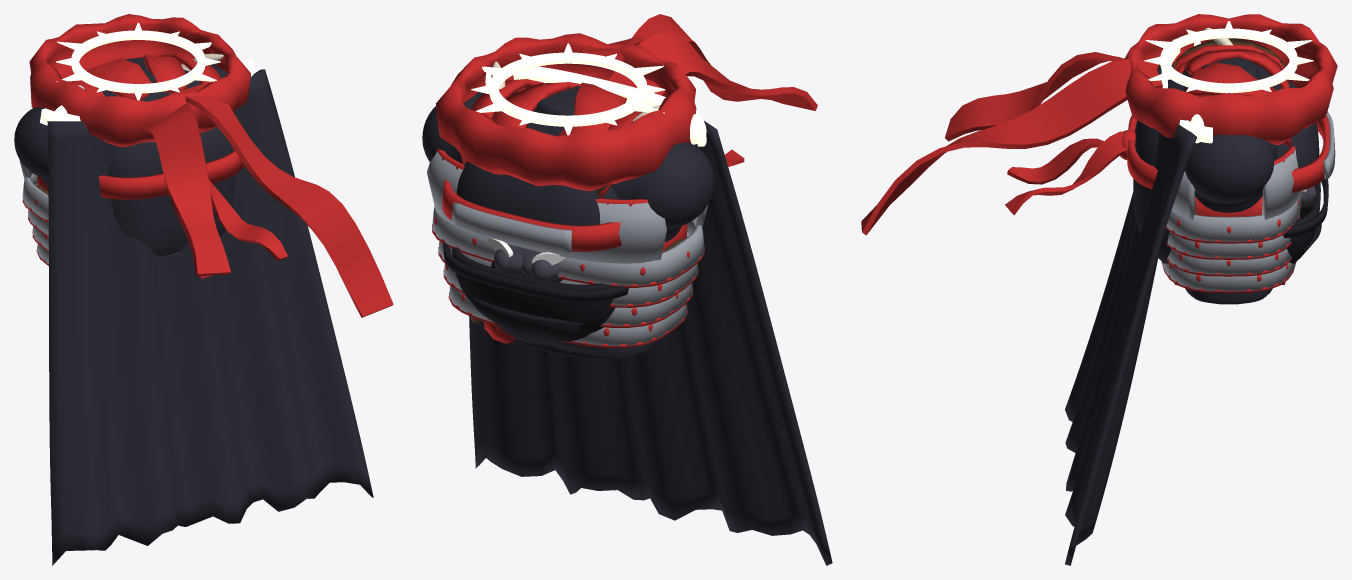
File: NinjaSim_Ninja.fbx
3 views of the same model, side by side, from view 1: azimuth 30°, elevation 25°; view 2: azimuth 150°, elevation 25°; view 3: azimuth 270°, elevation 25° (orthographic). The views are drawn at different scales.
Parts seen in each view (by area): view 1: NSuitCape__Cloth, NSuitScarf__Cloth, NSuitHood__Cloth, NSuitHood__Band, NSuitHalo__Ring, NSuitTorso__Cloth, NSuitTorso__Lapel, NSuitTorso__Plate, NSuitTorso__Rim, NSuitCape__Hem; view 2: NSuitCape__Cloth, NSuitScarf__Cloth, NSuitTorso__Plate, NSuitHood__Mask, NSuitTorso__Cloth, NSuitHood__Cloth, NSuitHalo__Ring, NSuitTorso__Rim, NSuitTorso__Lapel, NSuitHood__Plate, NSuitHood__Band, NSuitCape__Hem (+3 smaller); view 3: NSuitScarf__Cloth, NSuitCape__Cloth, NSuitTorso__Plate, NSuitTorso__Cloth, NSuitHood__Band, NSuitHalo__Ring, NSuitHood__Cloth, NSuitTorso__Rim, NSuitTorso__Lapel, NSuitHood__Mask, NSuitCape__Hem, NSuitHips__Belt.
Part boxes in pixels (bbox=[...]): NSuitCape__Cloth: bbox=[47, 69, 373, 565]; NSuitScarf__Cloth: bbox=[29, 14, 393, 317]; NSuitHood__Cloth: bbox=[108, 127, 235, 258]; NSuitHood__Band: bbox=[98, 150, 287, 278]; NSuitHalo__Ring: bbox=[56, 22, 220, 100]; NSuitTorso__Cloth: bbox=[14, 58, 227, 186]; NSuitTorso__Lapel: bbox=[86, 54, 187, 100]; NSuitTorso__Plate: bbox=[19, 159, 48, 264]; NSuitTorso__Rim: bbox=[22, 53, 221, 265]; NSuitCape__Hem: bbox=[40, 58, 255, 125]; NSuitCape__Cloth: bbox=[469, 121, 832, 565]; NSuitScarf__Cloth: bbox=[436, 14, 817, 190]; NSuitTorso__Plate: bbox=[427, 151, 708, 345]; NSuitHood__Mask: bbox=[443, 243, 628, 352]; NSuitTorso__Cloth: bbox=[422, 85, 714, 359]; NSuitHood__Cloth: bbox=[456, 161, 618, 225]; NSuitHalo__Ring: bbox=[471, 43, 665, 135]; NSuitTorso__Rim: bbox=[432, 79, 704, 347]; NSuitTorso__Lapel: bbox=[483, 82, 626, 343]; NSuitHood__Plate: bbox=[451, 202, 571, 252]; NSuitHood__Band: bbox=[442, 149, 744, 251]; NSuitCape__Hem: bbox=[453, 66, 706, 146]; NSuitScarf__Cloth: bbox=[861, 14, 1337, 235]; NSuitCape__Cloth: bbox=[1065, 61, 1197, 565]; NSuitTorso__Plate: bbox=[1162, 149, 1302, 291]; NSuitTorso__Cloth: bbox=[1182, 58, 1277, 304]; NSuitHood__Band: bbox=[1005, 115, 1329, 215]; NSuitHalo__Ring: bbox=[1144, 21, 1313, 93]; NSuitHood__Cloth: bbox=[1133, 79, 1319, 263]; NSuitTorso__Rim: bbox=[1161, 44, 1301, 293]; NSuitTorso__Lapel: bbox=[1184, 49, 1289, 284]; NSuitHood__Mask: bbox=[1283, 178, 1328, 263]; NSuitCape__Hem: bbox=[1161, 39, 1212, 143]; NSuitHips__Belt: bbox=[1195, 196, 1262, 216].
Bounding box in the file's own units: 3.01 × 3.92 × 3.89.
